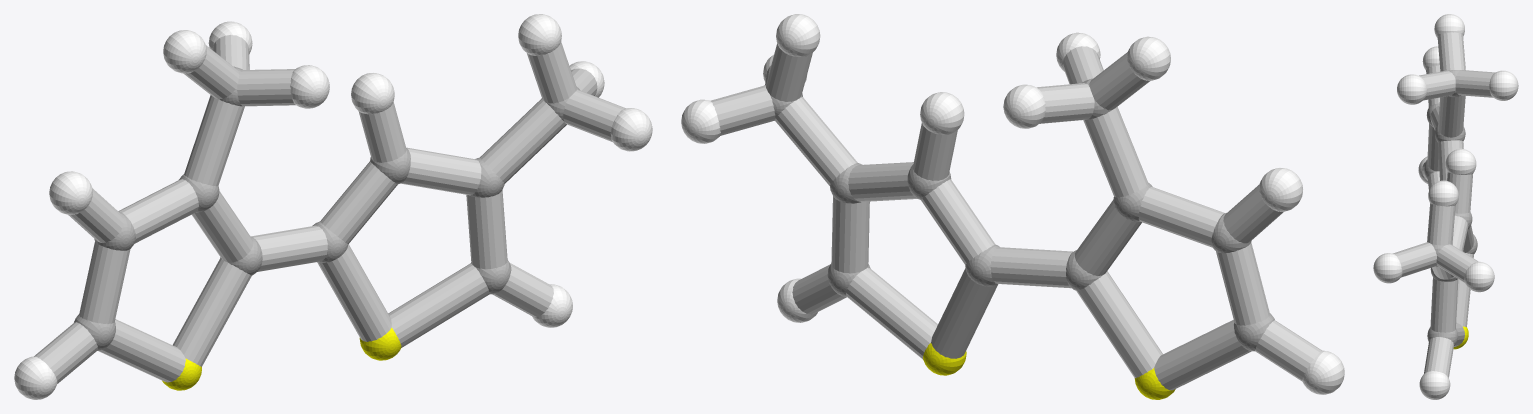
Rendered from Methylthiophene_Phi_15_Theta_180_Methylthiophene.glb.
The picture shows the model from 3 angles, left to right: view 1: azimuth 30°, elevation 25°; view 2: azimuth 150°, elevation 25°; view 3: azimuth 270°, elevation 25°; orthographic projection. The views are drawn at different scales.
Parts seen in each view (by area): view 1: grp7965, grp3621, grp1, grp7241; view 2: grp7965, grp3621, grp1, grp7241; view 3: grp7965, grp3621, grp1.
Boxes of the visible parts, <box> form: grp7965: <box>34,34,625,383</box>; grp3621: <box>14,14,652,399</box>; grp1: <box>74,66,580,350</box>; grp7241: <box>162,327,401,390</box>; grp7965: <box>710,43,1321,390</box>; grp3621: <box>681,14,1344,394</box>; grp1: <box>764,78,1274,351</box>; grp7241: <box>923,343,1175,399</box>; grp7965: <box>1393,32,1495,377</box>; grp3621: <box>1373,14,1518,399</box>; grp1: <box>1424,70,1477,345</box>.
Size of the model in its own units: 9.75 by 5.7 by 2.83.
